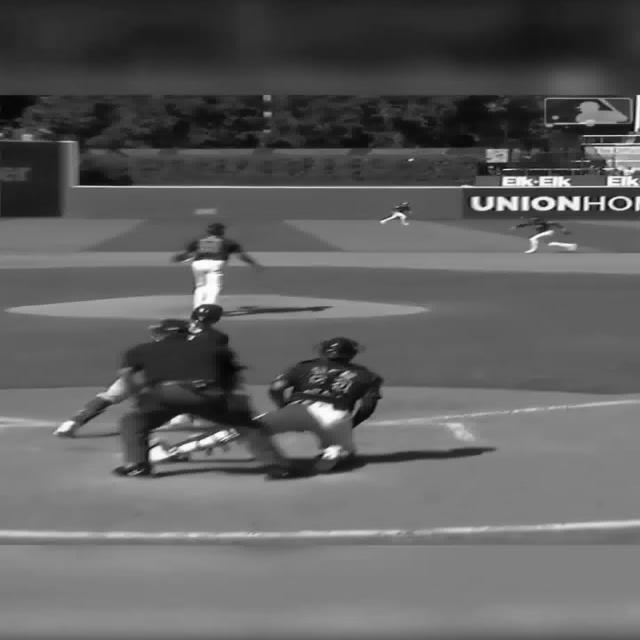baseball: (406, 158, 414, 162)
baseball_glove: (171, 250, 193, 262)
shoe: (168, 428, 240, 457), (312, 444, 352, 472), (196, 428, 240, 450), (148, 443, 186, 462), (114, 462, 152, 476), (52, 420, 81, 438), (262, 464, 293, 479), (566, 243, 576, 251)
